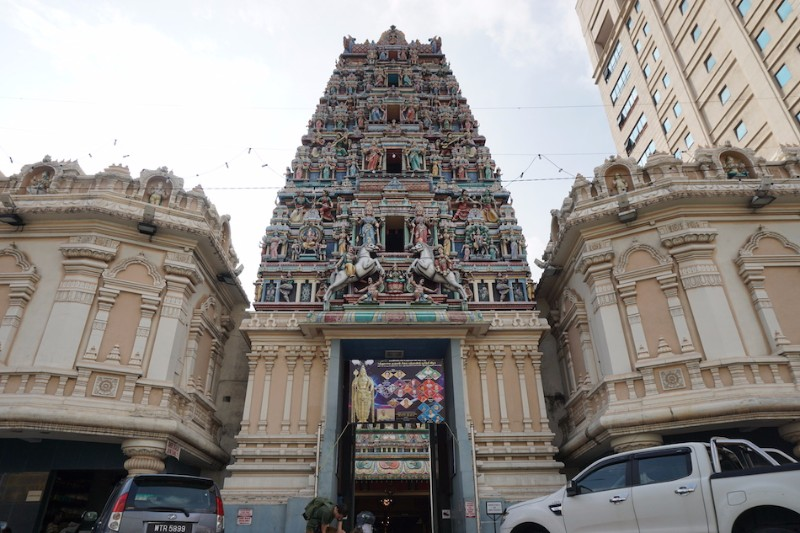Hindu Temple: (238, 25, 556, 491)
